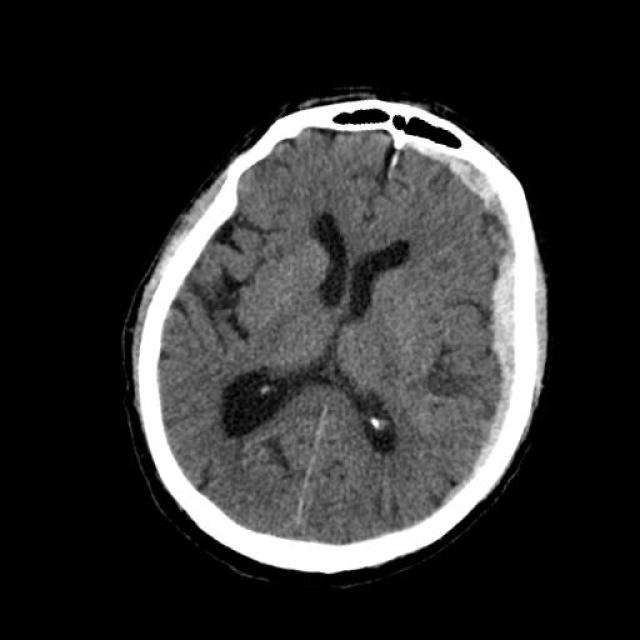Subdural: (335, 132, 607, 538)
